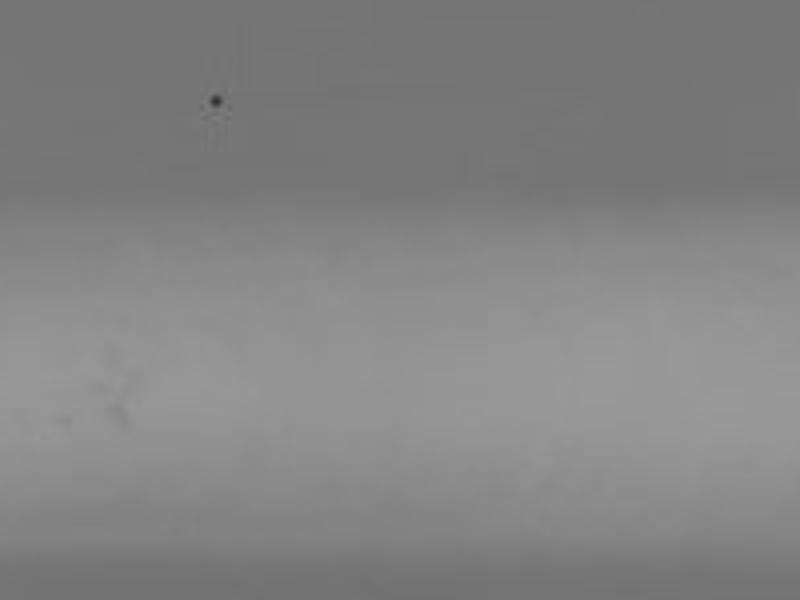defect: (203, 89, 226, 113)
